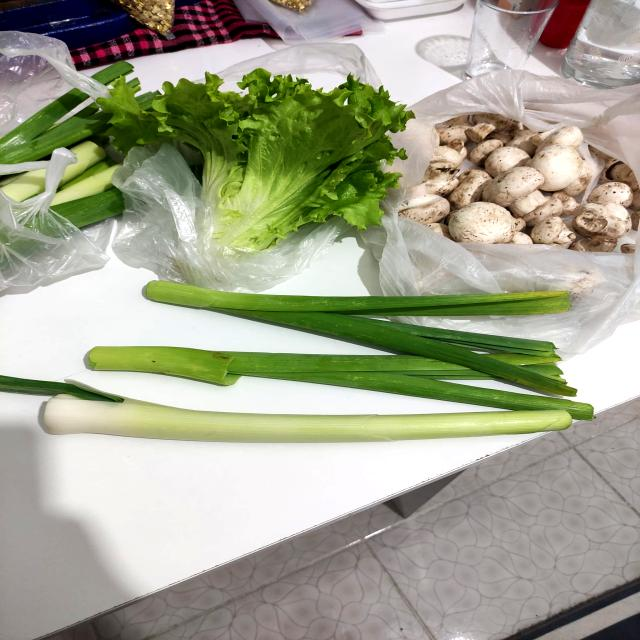mushroom: (399, 98, 640, 292), (436, 194, 526, 254), (480, 162, 558, 220), (524, 137, 596, 197)
